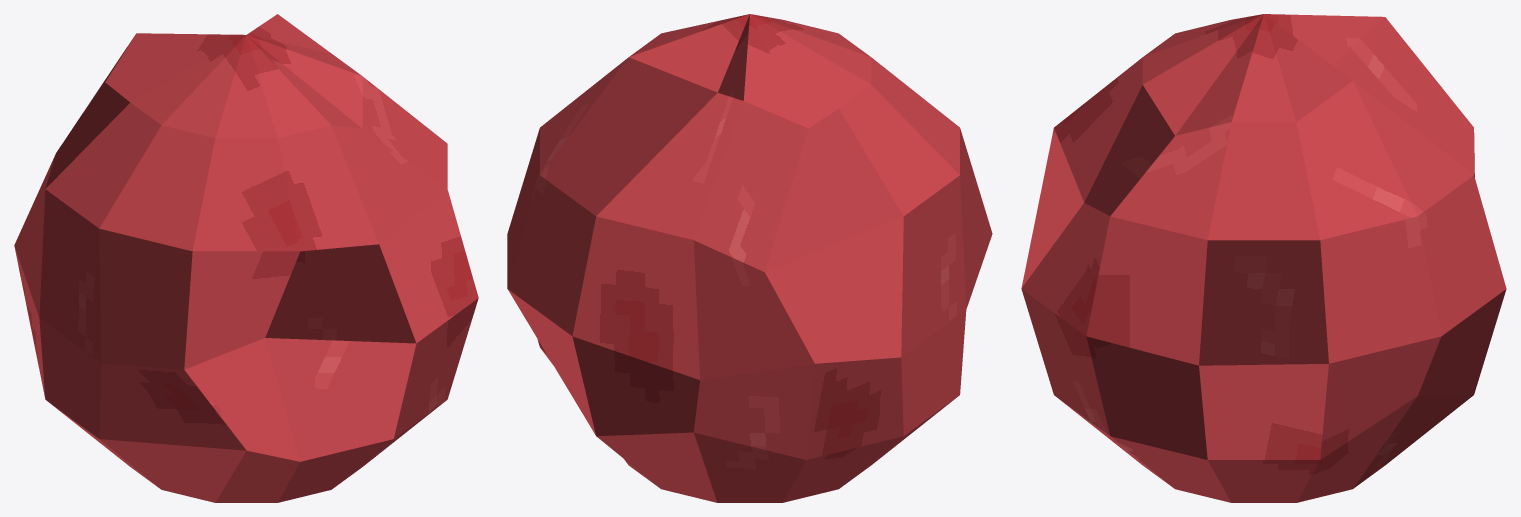
Rendered from Meat.gltf.
The picture shows the model from 3 angles, left to right: view 1: azimuth 30°, elevation 25°; view 2: azimuth 150°, elevation 25°; view 3: azimuth 270°, elevation 25°; orthographic projection. The views are drawn at different scales.
Visible parts, largest first — view 1: sphere; view 2: sphere; view 3: sphere.
Part boxes in pixels (box(x1,y1,x2,y2)): sphere: box(14, 14, 478, 502); sphere: box(507, 14, 992, 502); sphere: box(1021, 14, 1506, 502).
Bounding box in the file's own units: 0.9375 × 1 × 1.
1 material, 1 textured.
